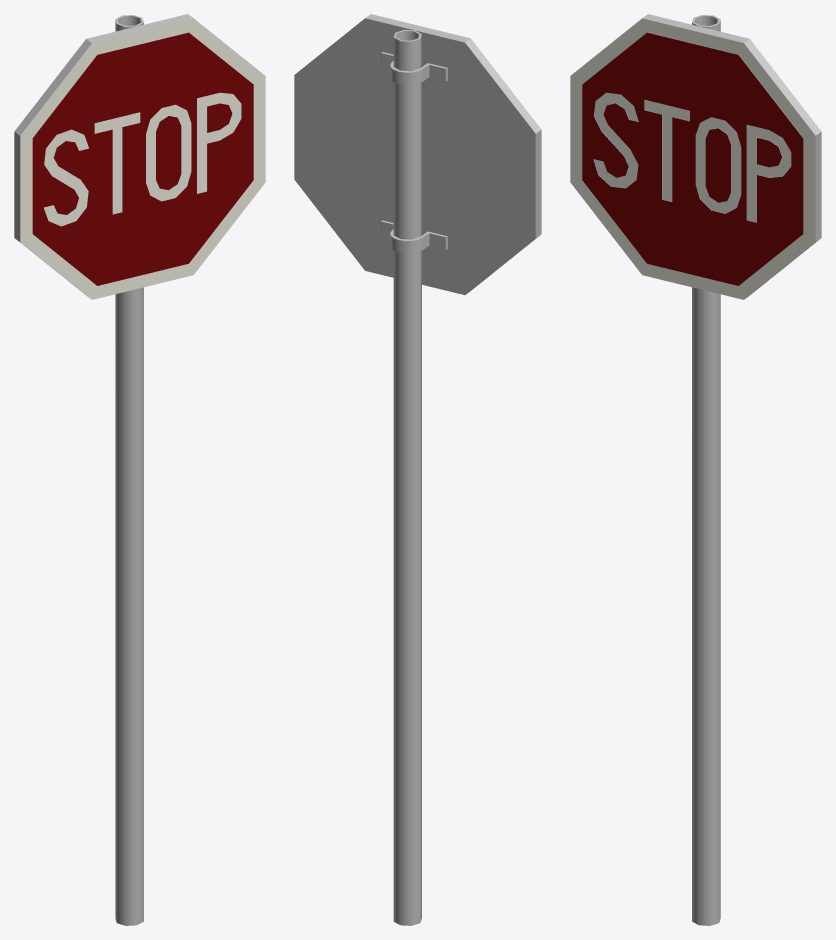
Rendered from stop.obj.
3 views of the same model, side by side, from view 1: azimuth 30°, elevation 25°; view 2: azimuth 150°, elevation 25°; view 3: azimuth 330°, elevation 25° (orthographic).
Visible parts, largest first — view 1: stop_MTL1.004, stop_DEFAULT_MTL.004, stop_MTL0.004; view 2: stop_DEFAULT_MTL.004; view 3: stop_MTL1.004, stop_DEFAULT_MTL.004, stop_MTL0.004.
Part boxes in pixels (box(x1,y1,x2,y2)): stop_MTL1.004: box(32, 32, 253, 285); stop_DEFAULT_MTL.004: box(14, 14, 241, 925); stop_MTL0.004: box(20, 18, 265, 299); stop_DEFAULT_MTL.004: box(294, 14, 541, 925); stop_MTL1.004: box(582, 32, 803, 285); stop_DEFAULT_MTL.004: box(593, 14, 821, 925); stop_MTL0.004: box(570, 18, 815, 299).
Size of the model in its own units: 600 by 2100 by 95.5.
